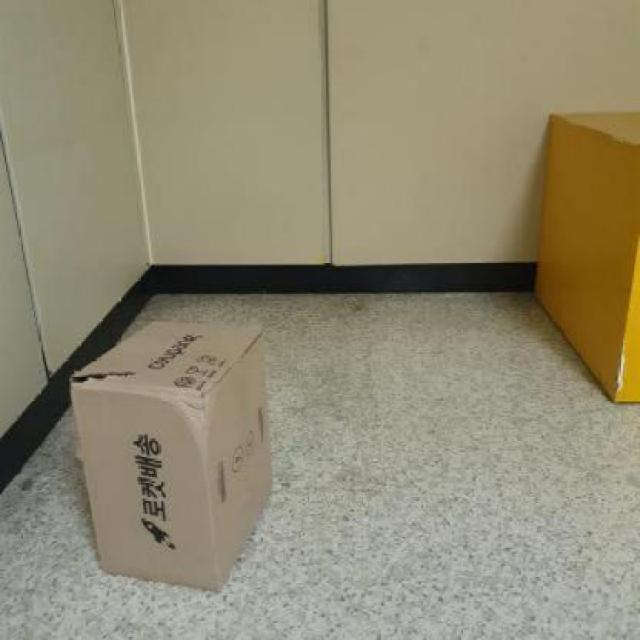box: (51, 309, 303, 616)
